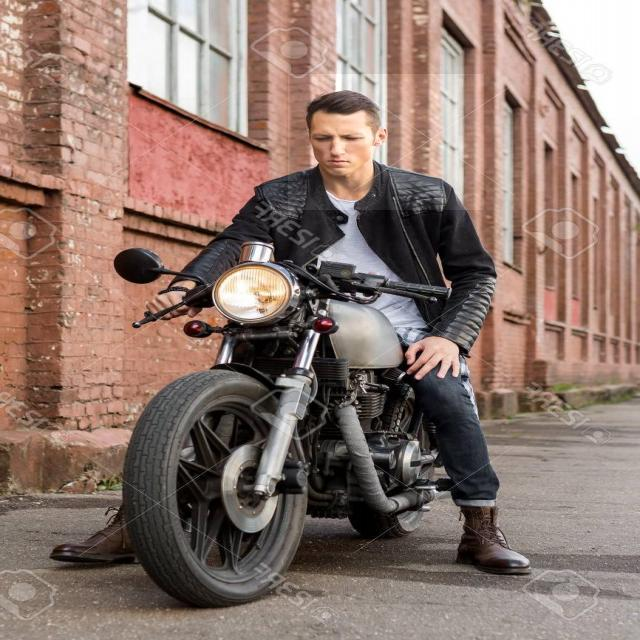No_Helmet: (288, 74, 484, 210)
